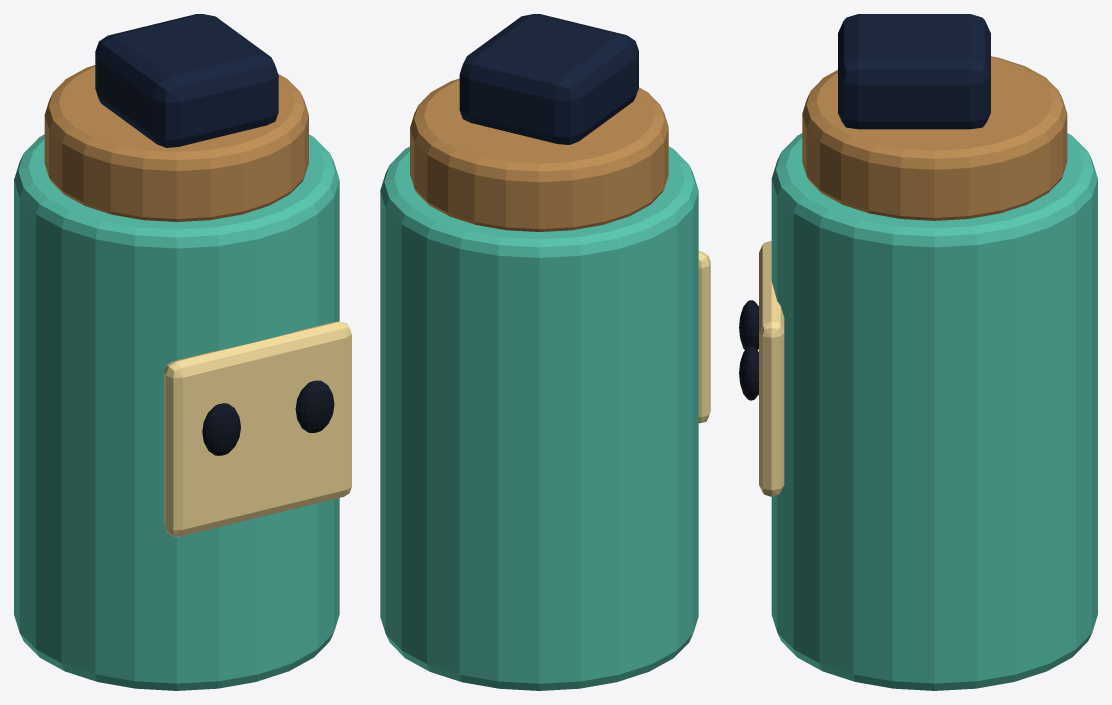
The model's file is Item_disguise_spray.fbx.
3 renders of one model, left to right at view 1: azimuth 30°, elevation 25°; view 2: azimuth 150°, elevation 25°; view 3: azimuth 270°, elevation 25°, orthographic. The views are drawn at different scales.
Parts seen in each view (by area): view 1: Item_disguise_spray.Mesh; view 2: Item_disguise_spray.Mesh; view 3: Item_disguise_spray.Mesh.
Part boxes in pixels (bbox=[...]): Item_disguise_spray.Mesh: bbox=[14, 14, 351, 690]; Item_disguise_spray.Mesh: bbox=[380, 14, 710, 690]; Item_disguise_spray.Mesh: bbox=[739, 14, 1097, 690].
Bounding box in the file's own units: 32 × 64 × 35.2.
